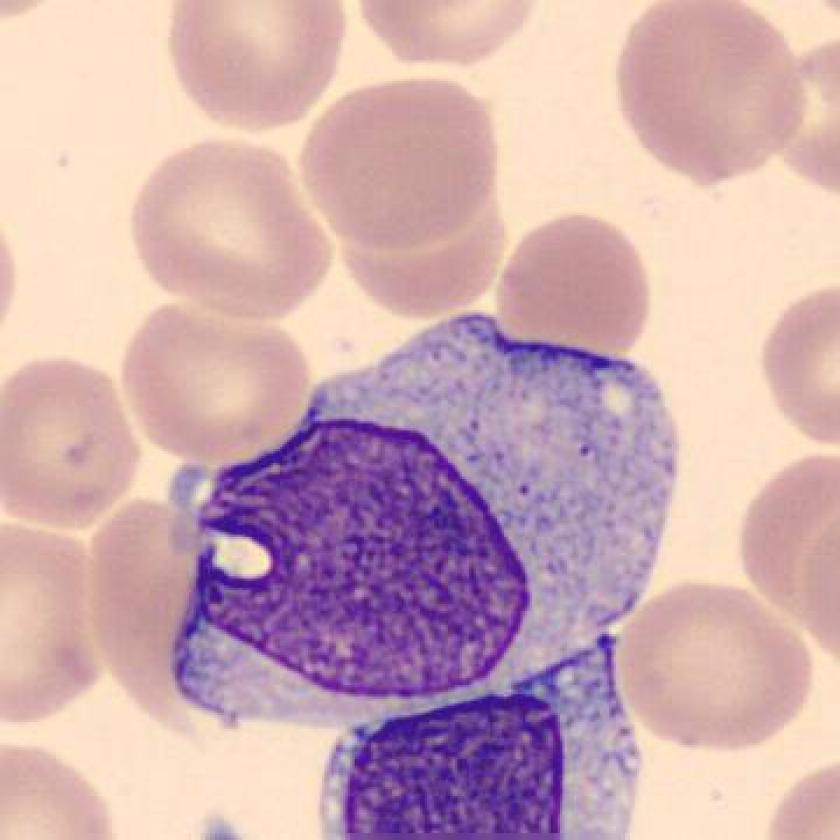monocyte: (157, 300, 706, 746)
